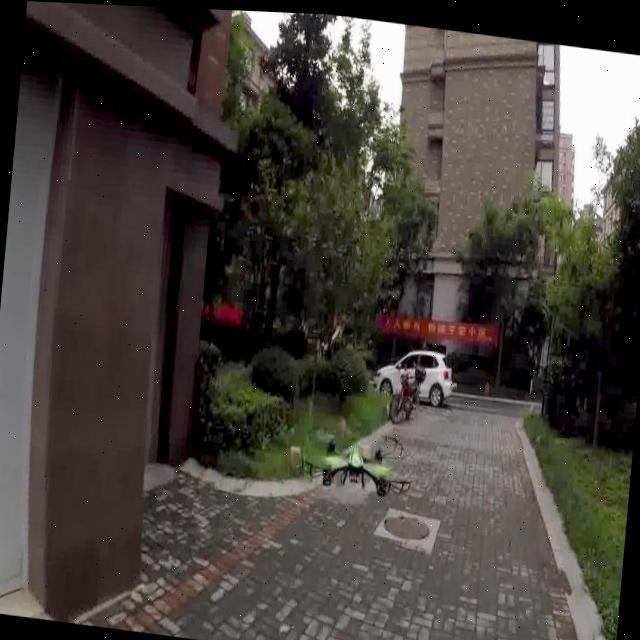drone: (284, 410, 418, 506)
